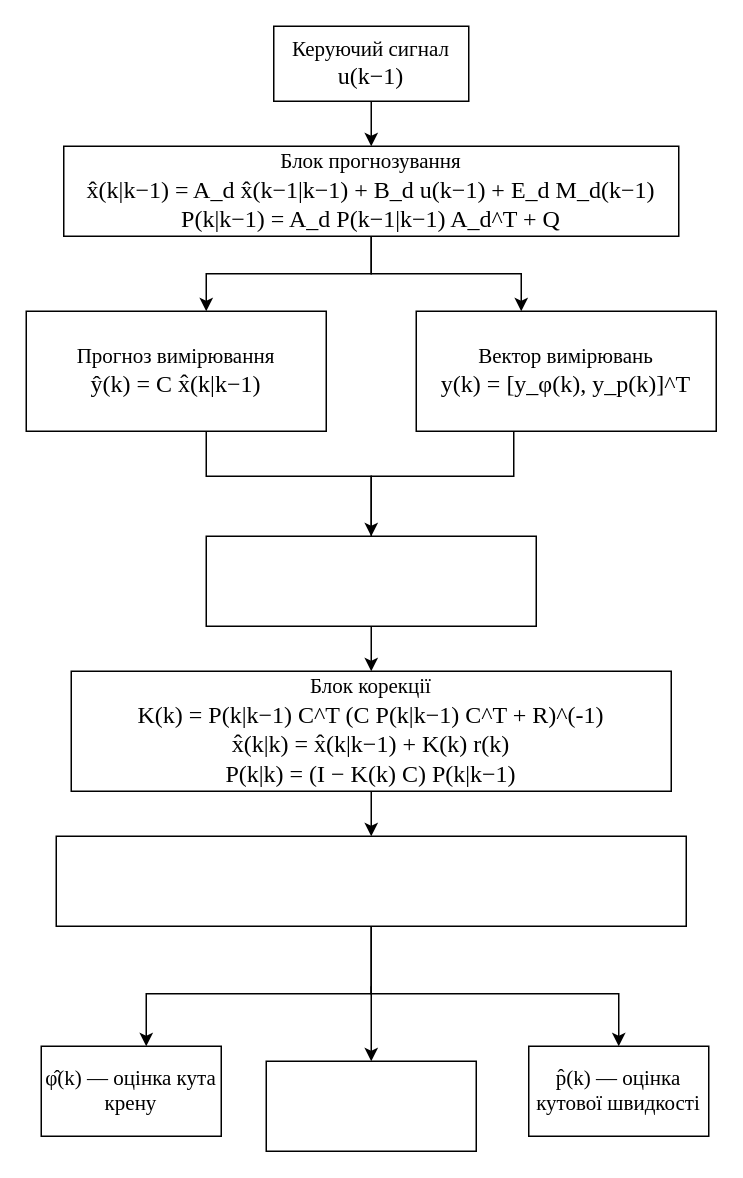
Image size: 743x1178. Some labels were removed from this diagram. Each missing label, with the centre of its shape:
M̂_u(k) — оцінка керуючого моменту: (370,1105)
Блок оцінки стану x̂(k|k) = [φ̂(k), p̂(k), M̂_u(k)]^T: (370,880)
Блок формування інновації r(k) = y(k) − ŷ(k): (370,580)
